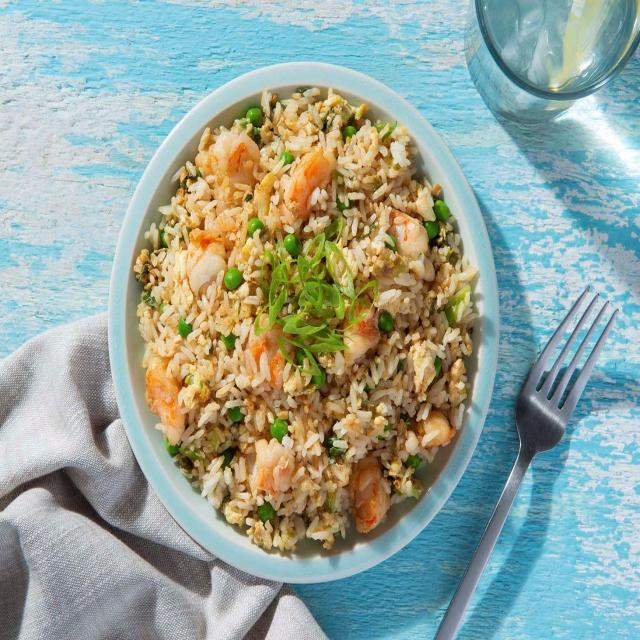Nasi Goreng: (132, 83, 480, 554)
